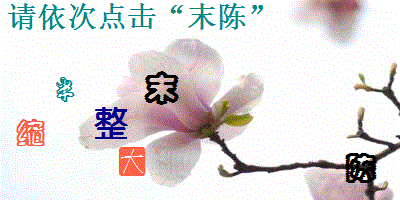result: (187, 1, 249, 31)
text: (91, 105, 130, 143), (143, 70, 182, 105), (345, 151, 378, 185), (14, 117, 47, 150), (117, 145, 148, 177), (53, 76, 74, 104)
